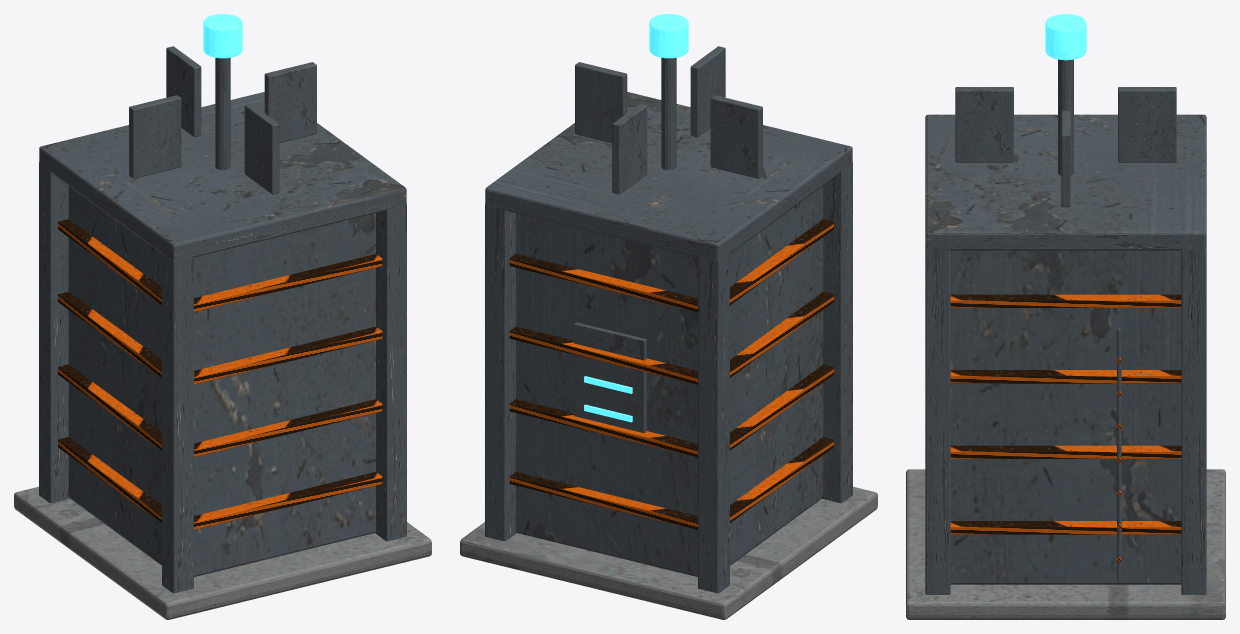
Rendered from relay_annex.glb.
3 views of the same model, side by side, from view 1: azimuth 30°, elevation 25°; view 2: azimuth 150°, elevation 25°; view 3: azimuth 270°, elevation 25° (orthographic). The views are drawn at different scales.
Parts seen in each view (by area): view 1: RelayAnnexCore, RelayAnnexCrown, RelayAnnexFoundation, RelayButtress_-1.921.92, RelayButtress_1.921.92, RelayButtress_-1.92-1.92, RelayBand_3.8, RelayBand_1.3, RelayBand_5.05, RelayBand_2.55, RelayVane_4.71238898038469, RelayVane_1.5707963267948966 (+4 smaller); view 2: RelayAnnexCore, RelayAnnexCrown, RelayAnnexFoundation, RelayButtress_-1.92-1.92, RelayButtress_1.92-1.92, RelayButtress_-1.921.92, RelayStatusPanel, RelayBand_1.3, RelayBand_5.05, RelayBand_3.8, RelayBand_2.55, RelayVane_4.71238898038469 (+5 smaller); view 3: RelayAnnexCore, RelayAnnexCrown, RelayAnnexFoundation, RelayButtress_1.92-1.92, RelayButtress_1.921.92, RelayVane_0, RelayVane_3.141592653589793, RelayBand_5.05, RelayBand_1.3, RelayBand_3.8, RelayBand_2.55, RelayEmitter (+3 smaller).
Boxes of the visible parts, x1=… form: RelayAnnexCore: x1=68, y1=186, x2=375, y2=576; RelayAnnexCrown: x1=39, y1=92, x2=406, y2=260; RelayAnnexFoundation: x1=14, y1=486, x2=431, y2=619; RelayButtress_-1.921.92: x1=162, y1=253, x2=193, y2=593; RelayButtress_1.921.92: x1=375, y1=203, x2=406, y2=541; RelayButtress_-1.92-1.92: x1=39, y1=162, x2=69, y2=503; RelayBand_3.8: x1=58, y1=291, x2=382, y2=384; RelayBand_1.3: x1=58, y1=437, x2=382, y2=529; RelayBand_5.05: x1=58, y1=219, x2=382, y2=311; RelayBand_2.55: x1=58, y1=364, x2=382, y2=457; RelayVane_4.71238898038469: x1=129, y1=95, x2=181, y2=178; RelayVane_1.5707963267948966: x1=264, y1=62, x2=316, y2=142; RelayAnnexCore: x1=516, y1=186, x2=823, y2=576; RelayAnnexCrown: x1=485, y1=92, x2=852, y2=260; RelayAnnexFoundation: x1=460, y1=486, x2=877, y2=619; RelayButtress_-1.92-1.92: x1=698, y1=253, x2=729, y2=593; RelayButtress_1.92-1.92: x1=485, y1=203, x2=516, y2=541; RelayButtress_-1.921.92: x1=822, y1=162, x2=852, y2=503; RelayStatusPanel: x1=574, y1=322, x2=646, y2=445; RelayBand_1.3: x1=509, y1=437, x2=833, y2=529; RelayBand_5.05: x1=509, y1=219, x2=833, y2=311; RelayBand_3.8: x1=509, y1=291, x2=833, y2=384; RelayBand_2.55: x1=509, y1=364, x2=833, y2=457; RelayVane_4.71238898038469: x1=710, y1=95, x2=762, y2=178; RelayAnnexCore: x1=950, y1=250, x2=1181, y2=584; RelayAnnexCrown: x1=925, y1=114, x2=1206, y2=250; RelayAnnexFoundation: x1=906, y1=469, x2=1225, y2=619; RelayButtress_1.92-1.92: x1=1181, y1=248, x2=1206, y2=594; RelayButtress_1.921.92: x1=925, y1=248, x2=950, y2=594; RelayVane_0: x1=955, y1=87, x2=1013, y2=162; RelayVane_3.141592653589793: x1=1118, y1=87, x2=1176, y2=162; RelayBand_5.05: x1=950, y1=294, x2=1181, y2=307; RelayBand_1.3: x1=950, y1=521, x2=1181, y2=534; RelayBand_3.8: x1=950, y1=370, x2=1181, y2=383; RelayBand_2.55: x1=950, y1=445, x2=1181, y2=458; RelayEmitter: x1=1045, y1=14, x2=1086, y2=60.
Bounding box in the file's own units: 4.8 × 8.8 × 4.8.
5 materials, 5 textured.
